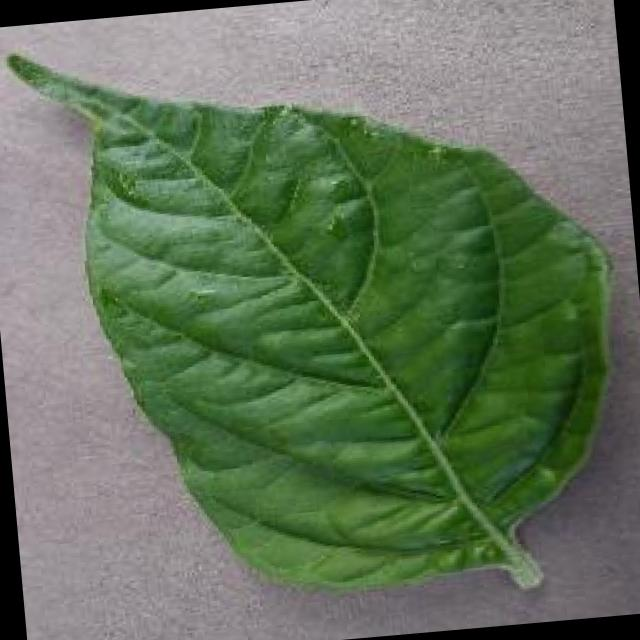Chilli_Healthy: (2, 0, 638, 629)
